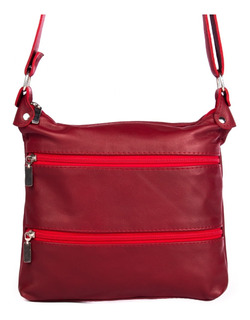cartera: (10, 83, 237, 304)
